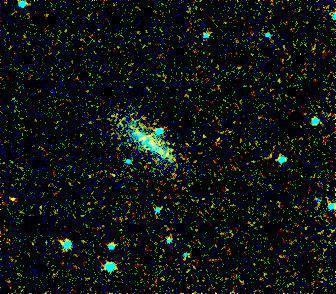star: (0, 183, 30, 213)
